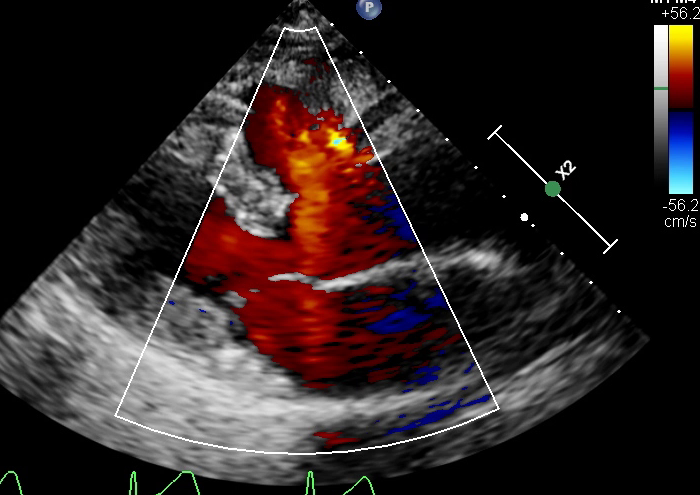AR: (215, 201, 344, 298)
